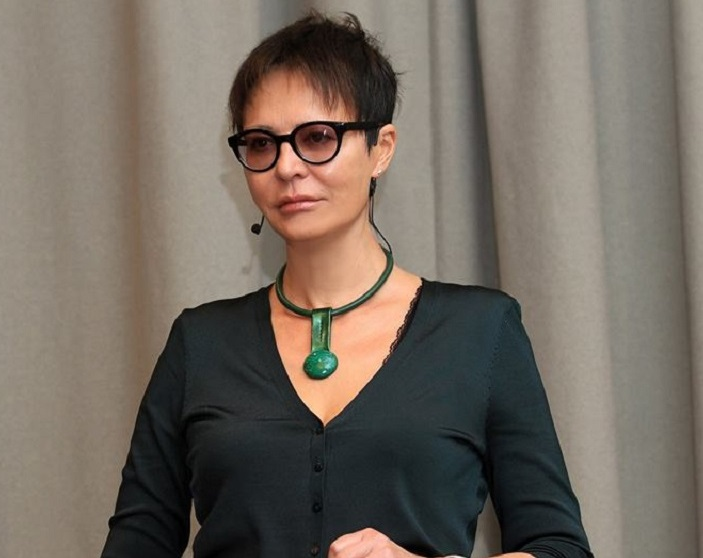glasses: (215, 113, 351, 176)
